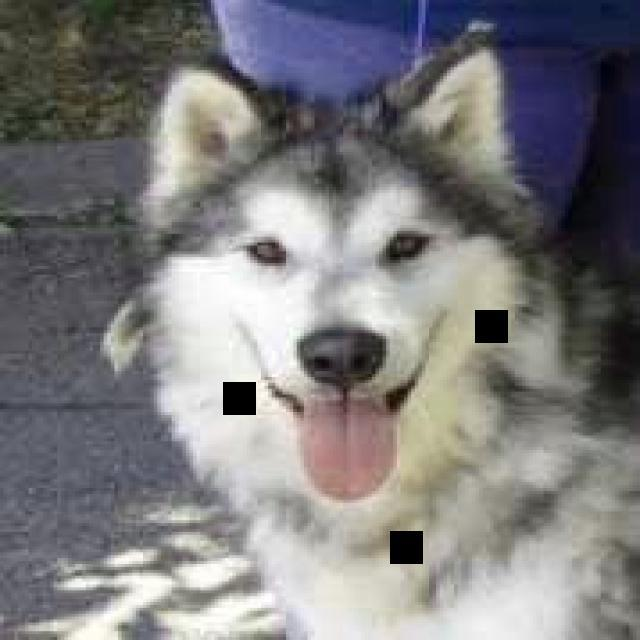adult_dog: (96, 18, 640, 640)
